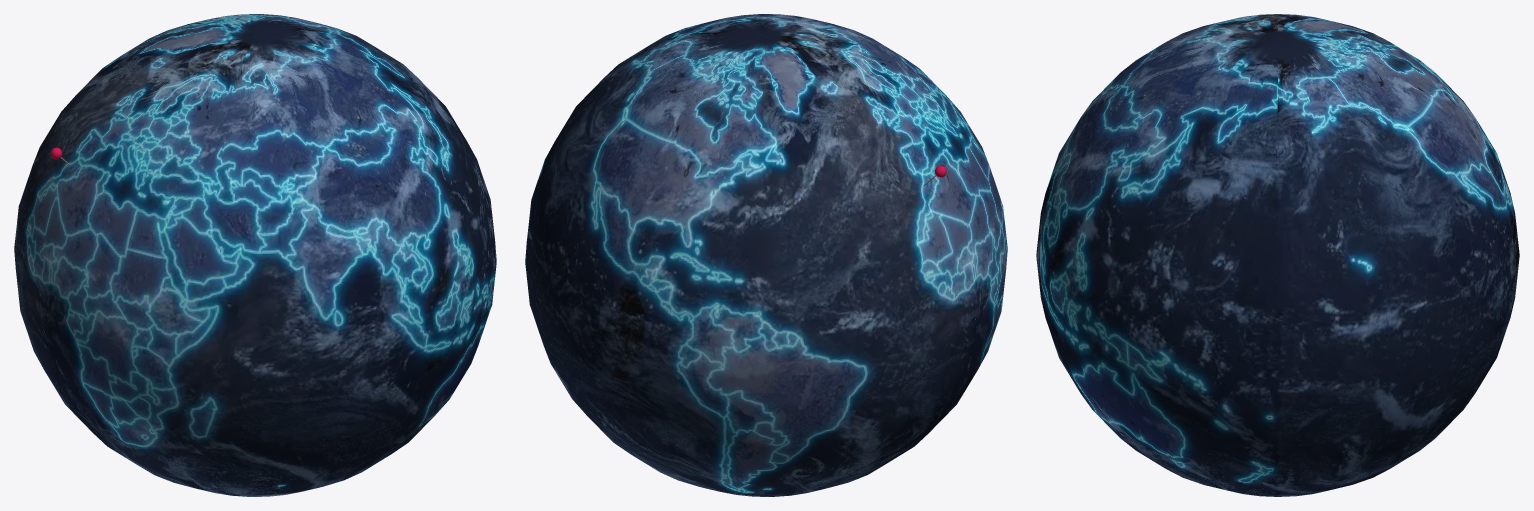
Rendered from Earth_0714-transformed.glb.
3 renders of one model, left to right at view 1: azimuth 30°, elevation 25°; view 2: azimuth 150°, elevation 25°; view 3: azimuth 270°, elevation 25°, orthographic.
Parts seen in each view (by area): view 1: Globe; view 2: Globe; view 3: Globe.
Part boxes in pixels (<box>): Globe: <box>14,14,496,496</box>; Globe: <box>525,14,1007,496</box>; Globe: <box>1036,14,1519,496</box>.
Bounding box in the file's own units: 2 × 2 × 2.
2 materials, 2 textured.
